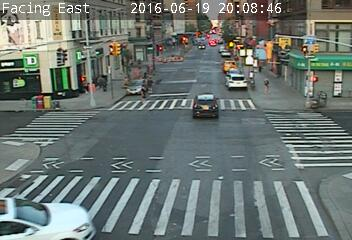neg: (164, 80, 180, 101), (83, 132, 97, 150), (200, 98, 212, 115), (207, 61, 218, 76), (130, 139, 140, 152)
pos: (136, 79, 151, 98), (261, 77, 274, 95), (96, 74, 107, 89), (145, 76, 155, 89)
